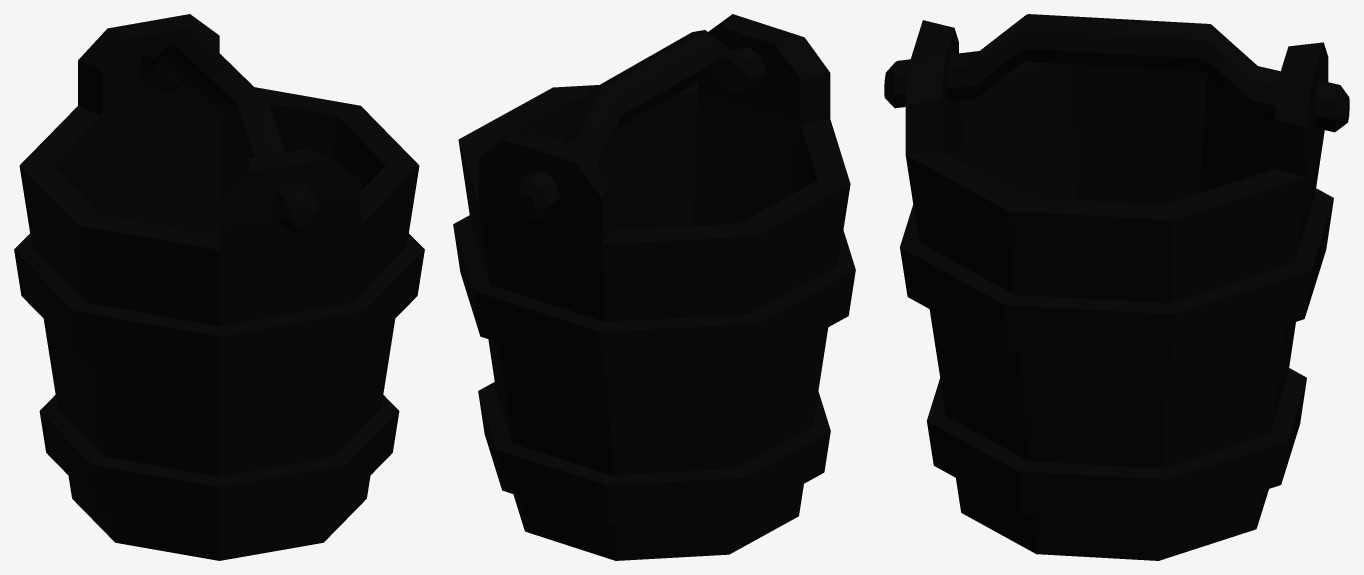
Rendered from Bucket.obj.
3 views of the same model, side by side, from view 1: azimuth 30°, elevation 25°; view 2: azimuth 150°, elevation 25°; view 3: azimuth 270°, elevation 25° (orthographic). The views are drawn at different scales.
Size of the model in its own units: 1.98 by 2.4 by 2.13.
1 material, 1 textured.
